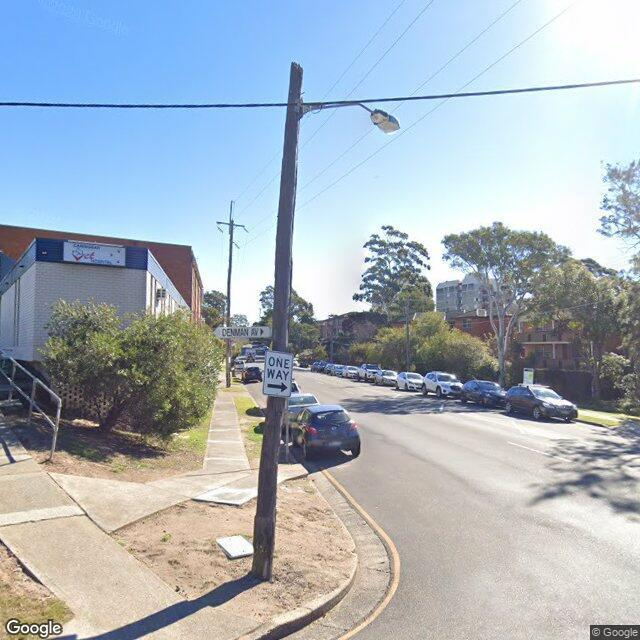HV-transmission: (216, 200, 250, 234)
streetlight: (296, 97, 401, 136)
timber-pole: (251, 61, 305, 581), (226, 218, 234, 388)
